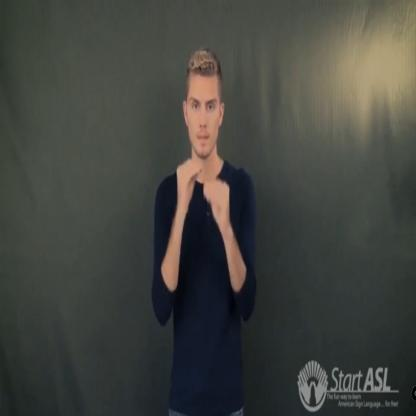Fix: (175, 146, 232, 238)
